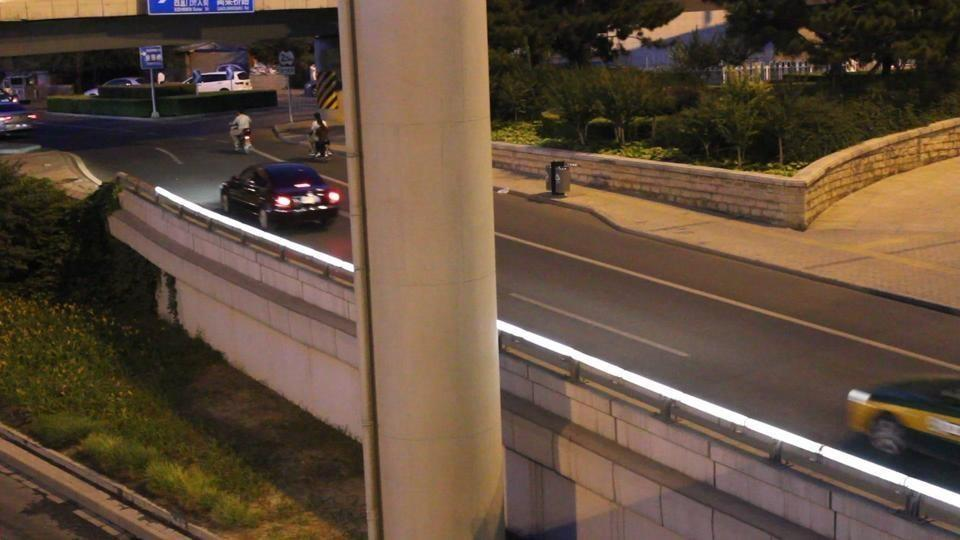car: (844, 375, 960, 462), (222, 161, 345, 229), (184, 65, 253, 94), (0, 96, 38, 138), (97, 76, 147, 93)
